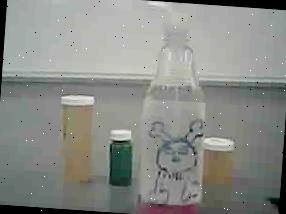Bottle A: (50, 90, 105, 192)
Bottle B: (198, 128, 242, 194)
Bottle C: (104, 123, 144, 191)
hazard: (127, 0, 227, 214)
